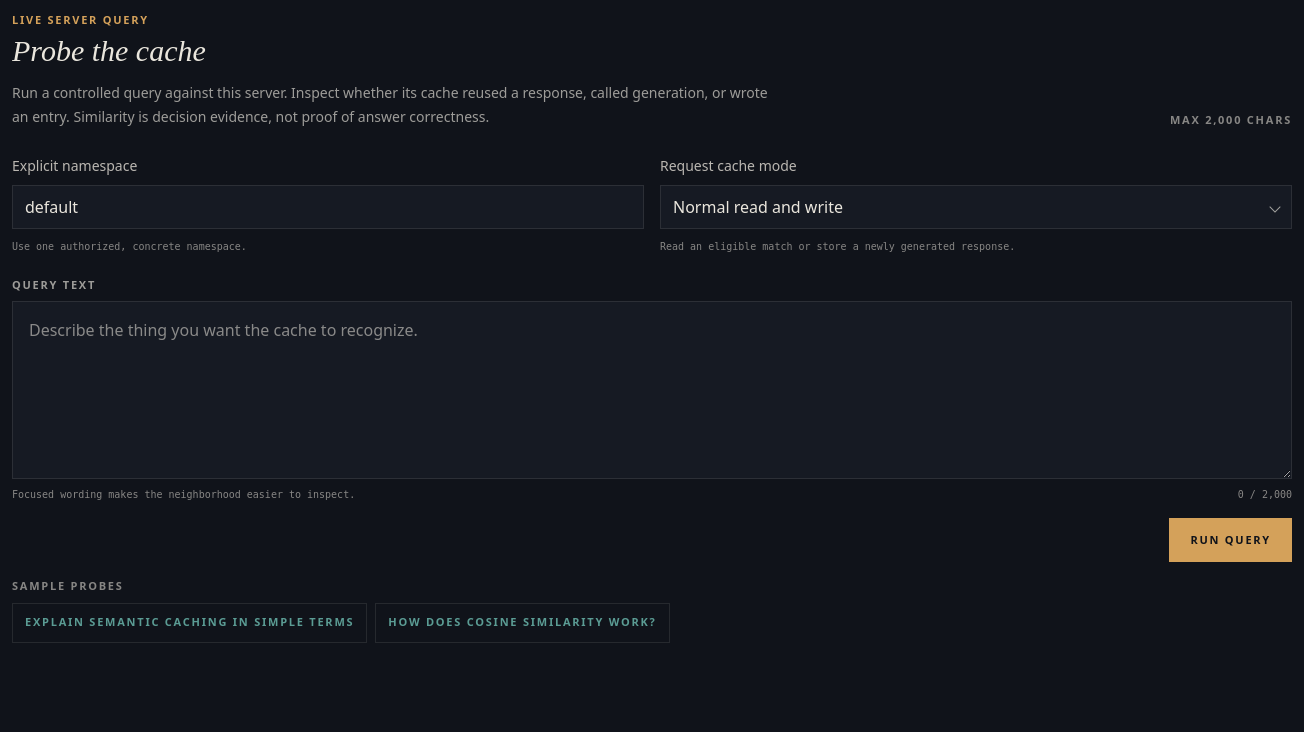
Test: QueryForm › requires wildcard principals to provide one valid explicit namespace
Replace the text in the field labelled "Explicit namespace" with "not allowed" at (328, 206), box [12,184,644,228]
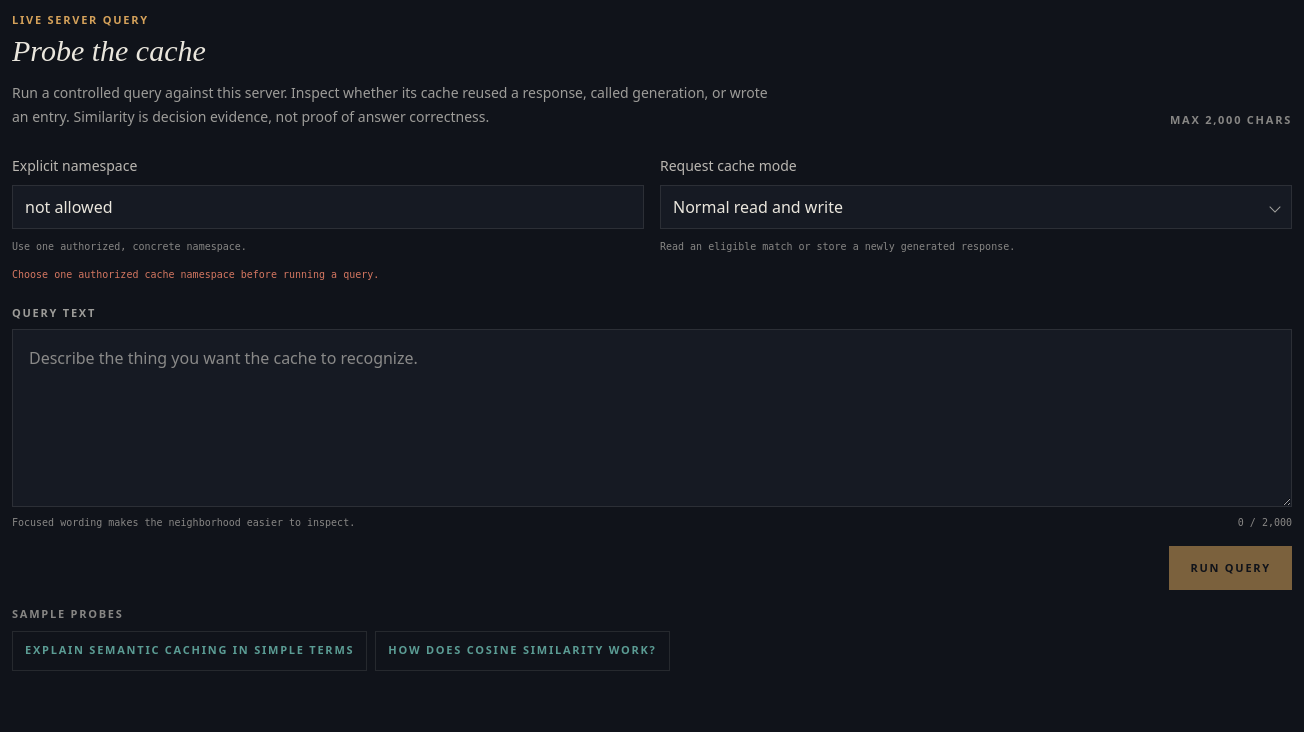
Check: the button "Run query" is disabled, box [1169,546,1292,590]
Check: the text "Choose one authorized cache namespace before running a query" is shown, box [12,268,379,280]
